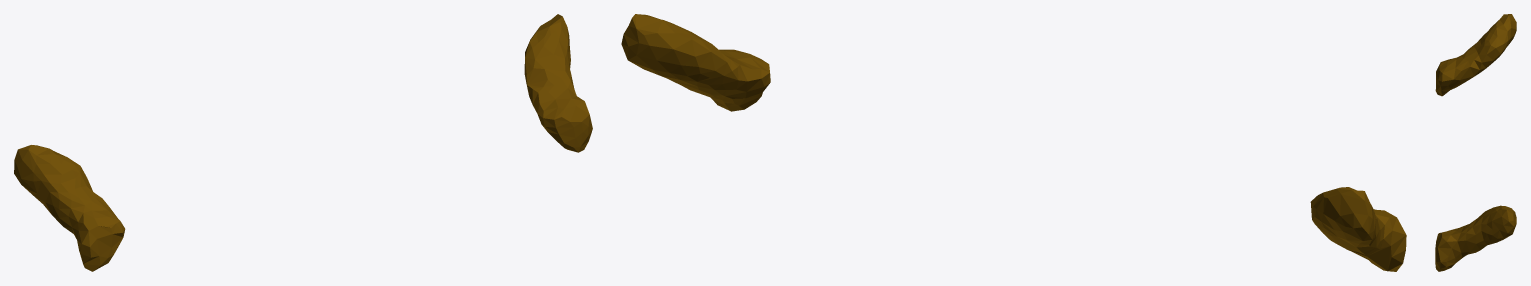
File: 123-ReIT-retroinsular area, temporal part-('0.4980', '0.3451', '0.0000').obj
3 renders of one model, left to right at view 1: azimuth 30°, elevation 25°; view 2: azimuth 150°, elevation 25°; view 3: azimuth 270°, elevation 25°, orthographic. The views are drawn at different scales.
Bounding box in the file's own units: 216 × 36.43 × 36.95.
